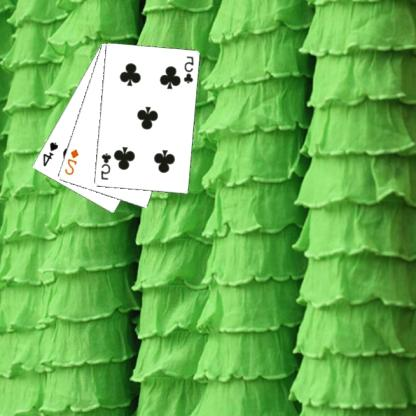2D: (63, 146, 82, 176)
4S: (41, 139, 61, 168)
5C: (182, 53, 196, 86), (100, 151, 114, 181)
